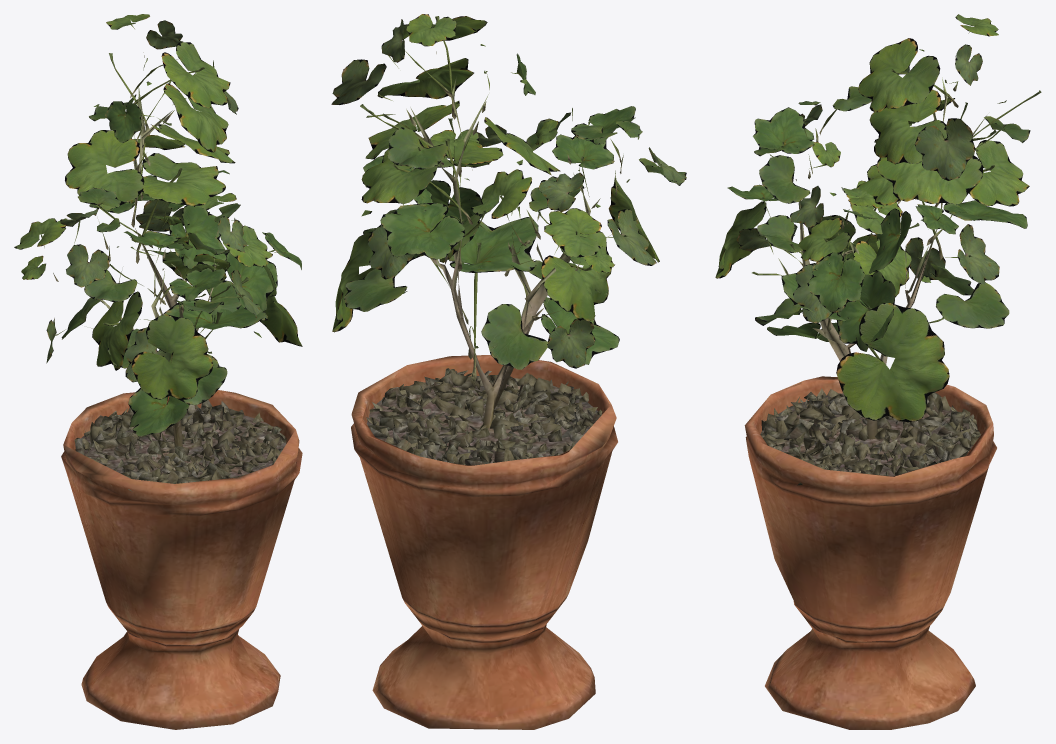
Rendered from jardiniere_plante_a_lod0.glb.
3 views of the same model, side by side, from view 1: azimuth 30°, elevation 25°; view 2: azimuth 150°, elevation 25°; view 3: azimuth 270°, elevation 25° (orthographic). The views are drawn at different scales.
Parts seen in each view (by area): view 1: potted_plant_01_stem, potted_plant_01_leaves; view 2: potted_plant_01_stem, potted_plant_01_leaves; view 3: potted_plant_01_stem, potted_plant_01_leaves.
Boxes of the visible parts, x1=… form: potted_plant_01_stem: x1=61, y1=87, x2=302, y2=729; potted_plant_01_leaves: x1=14, y1=14, x2=302, y2=436; potted_plant_01_stem: x1=351, y1=76, x2=617, y2=729; potted_plant_01_leaves: x1=331, y1=14, x2=686, y2=382; potted_plant_01_stem: x1=744, y1=77, x2=996, y2=729; potted_plant_01_leaves: x1=715, y1=14, x2=1041, y2=422.
Bounding box in the file's own units: 0.5788 × 1.34 × 0.595.
Materials: 2 (2 with a texture image).
